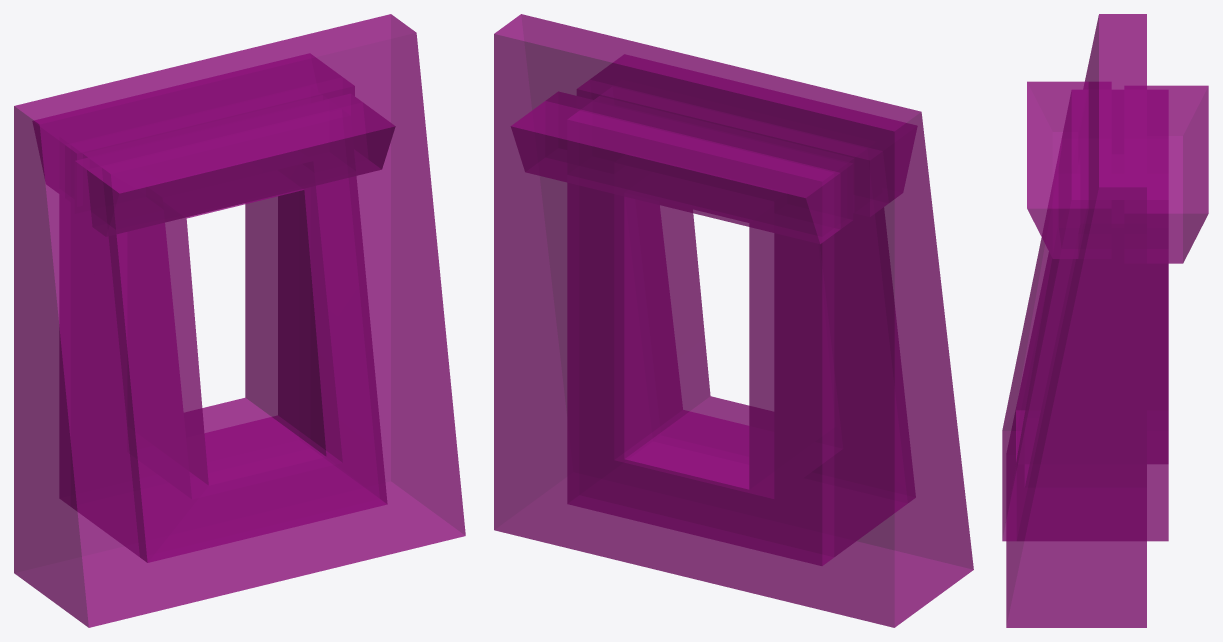
The model's file is SM_Bld_Wall_Temple_Top_Window_02_Collision.fbx.
The picture shows the model from 3 angles, left to right: view 1: azimuth 30°, elevation 25°; view 2: azimuth 150°, elevation 25°; view 3: azimuth 270°, elevation 25°; orthographic projection. The views are drawn at different scales.
Visible parts, largest first — view 1: SM_Bld_Wall_Temple_Top_Window_02_Collision; view 2: SM_Bld_Wall_Temple_Top_Window_02_Collision; view 3: SM_Bld_Wall_Temple_Top_Window_02_Collision.
Part boxes in pixels (x1,y1,x2,y2): SM_Bld_Wall_Temple_Top_Window_02_Collision: [14, 14, 465, 627]; SM_Bld_Wall_Temple_Top_Window_02_Collision: [494, 14, 973, 627]; SM_Bld_Wall_Temple_Top_Window_02_Collision: [1002, 14, 1208, 627].
Size of the model in its own units: 509 by 603 by 256.
